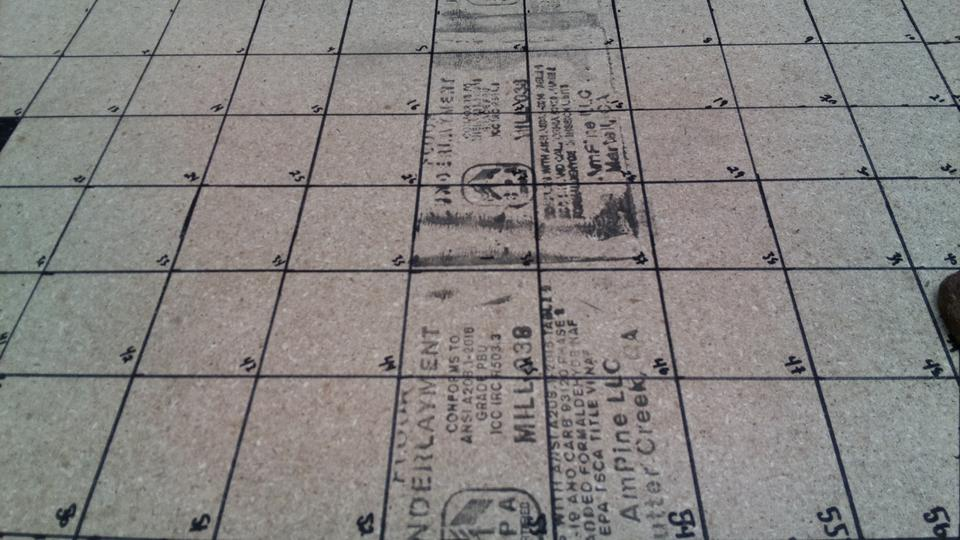poop: (934, 268, 960, 356)
